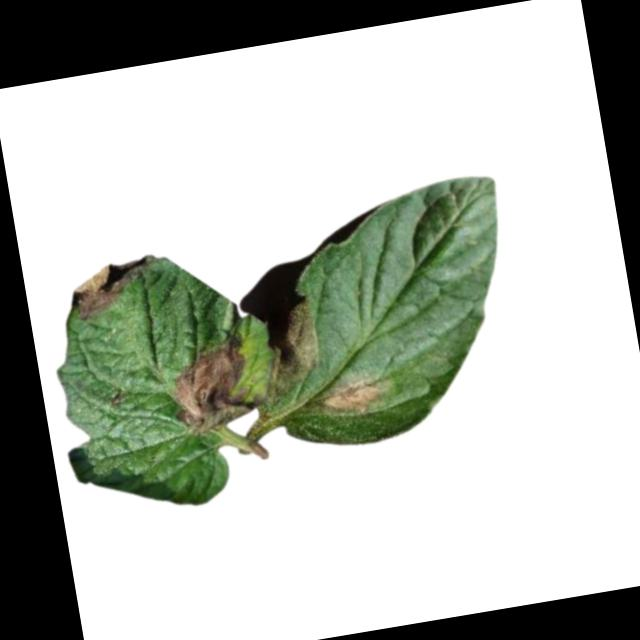Late_blight: (162, 327, 257, 438), (250, 296, 326, 403), (66, 254, 162, 319), (311, 370, 389, 422), (107, 391, 125, 408)
